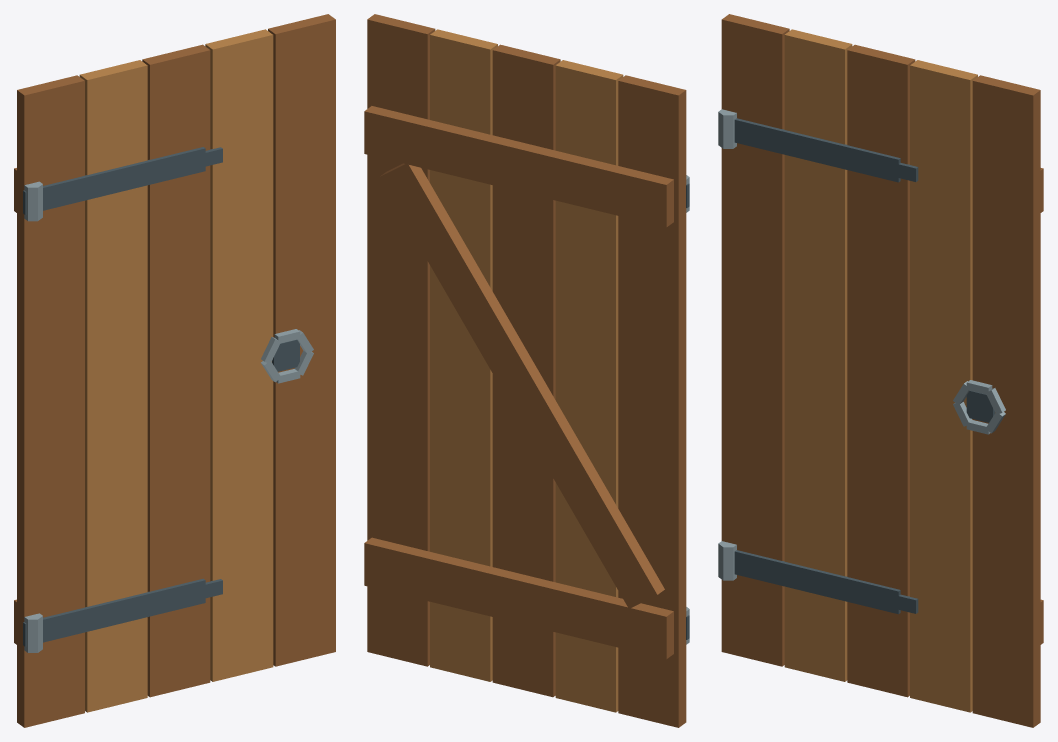
Rendered from door_wood_leaf.glb.
3 views of the same model, side by side, from view 1: azimuth 30°, elevation 25°; view 2: azimuth 150°, elevation 25°; view 3: azimuth 330°, elevation 25° (orthographic).
Parts seen in each view (by area): view 1: Leaf_Board_3, Leaf_Board_0, Leaf_Board_4, Leaf_Board_2, Leaf_Board_1, Leaf_Strap_1, Leaf_Strap_0, Handle_Plate, Leaf_Knuckle_1, Leaf_Knuckle_0; view 2: Leaf_Board_0, Leaf_Board_4, Leaf_Board_2, Leaf_Board_1, Leaf_Board_3, Leaf_Brace, Leaf_Ledge_1, Leaf_Ledge_0; view 3: Leaf_Board_4, Leaf_Board_3, Leaf_Board_1, Leaf_Board_2, Leaf_Board_0, Leaf_Strap_1, Leaf_Strap_0, Handle_Plate, Leaf_Knuckle_0, Leaf_Knuckle_1.
Part boxes in pixels (bbox=[...]): Leaf_Board_3: bbox=[205, 29, 273, 681]; Leaf_Board_0: bbox=[17, 75, 84, 727]; Leaf_Board_4: bbox=[268, 14, 335, 666]; Leaf_Board_2: bbox=[142, 44, 210, 697]; Leaf_Board_1: bbox=[79, 60, 147, 712]; Leaf_Strap_1: bbox=[23, 147, 205, 214]; Leaf_Strap_0: bbox=[23, 578, 205, 646]; Handle_Plate: bbox=[272, 339, 299, 371]; Leaf_Knuckle_1: bbox=[24, 181, 42, 221]; Leaf_Knuckle_0: bbox=[24, 613, 42, 652]; Leaf_Board_0: bbox=[618, 75, 686, 727]; Leaf_Board_4: bbox=[367, 14, 435, 666]; Leaf_Board_2: bbox=[492, 44, 560, 697]; Leaf_Board_1: bbox=[555, 60, 623, 712]; Leaf_Board_3: bbox=[430, 29, 497, 681]; Leaf_Brace: bbox=[379, 163, 664, 608]; Leaf_Ledge_1: bbox=[364, 106, 673, 227]; Leaf_Ledge_0: bbox=[364, 537, 673, 659]; Leaf_Board_4: bbox=[972, 75, 1040, 727]; Leaf_Board_3: bbox=[910, 60, 977, 712]; Leaf_Board_1: bbox=[784, 29, 852, 681]; Leaf_Board_2: bbox=[847, 44, 915, 697]; Leaf_Board_0: bbox=[721, 14, 789, 666]; Leaf_Strap_1: bbox=[734, 118, 900, 182]; Leaf_Strap_0: bbox=[734, 550, 900, 614]; Handle_Plate: bbox=[966, 390, 994, 422]; Leaf_Knuckle_0: bbox=[718, 541, 736, 580]; Leaf_Knuckle_1: bbox=[718, 109, 736, 148].
Bounding box in the file's own units: 1.08 × 2.08 × 0.1255.
